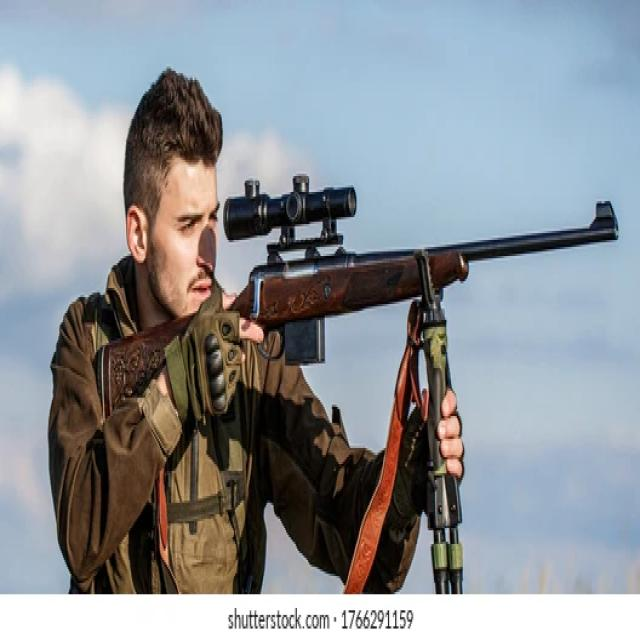soldier: (50, 70, 619, 592)
